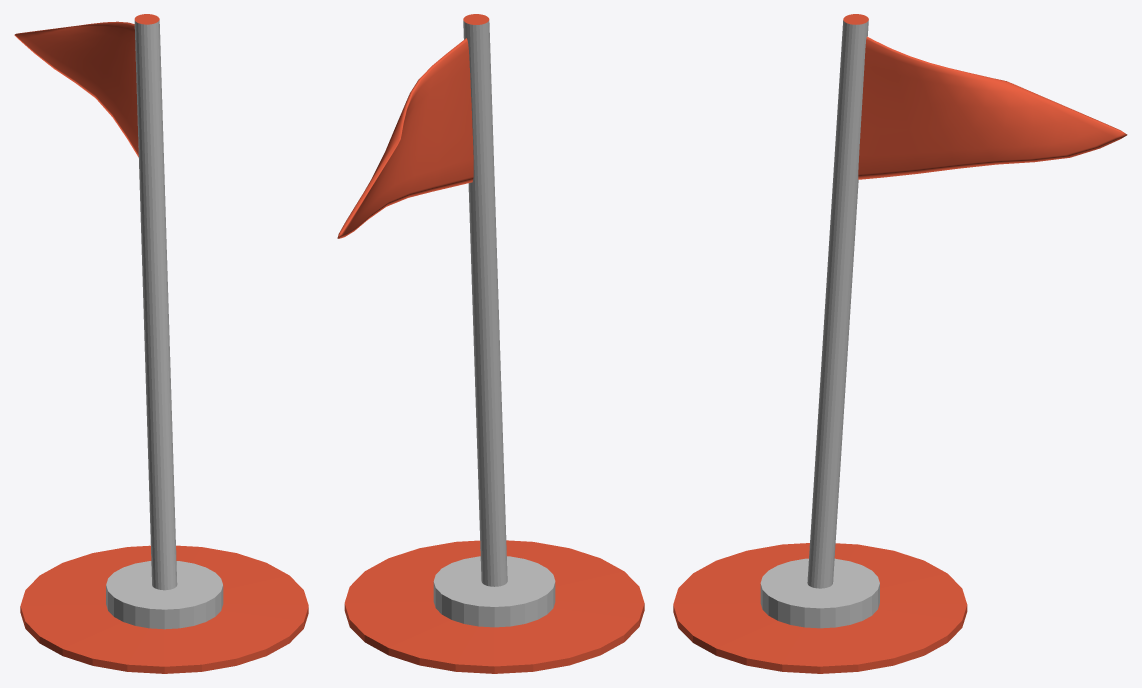
The model's file is Flag.fbx.
3 views of the same model, side by side, from view 1: azimuth 30°, elevation 25°; view 2: azimuth 150°, elevation 25°; view 3: azimuth 270°, elevation 25° (orthographic). The views are drawn at different scales.
Parts seen in each view (by area): view 1: tulguur, Flag; view 2: tulguur, Flag; view 3: tulguur, Flag.
Boxes of the visible parts, x1=… form: tulguur: x1=20, y1=14, x2=308, y2=673; Flag: x1=14, y1=21, x2=138, y2=156; tulguur: x1=344, y1=14, x2=644, y2=673; Flag: x1=337, y1=38, x2=473, y2=238; tulguur: x1=673, y1=14, x2=967, y2=673; Flag: x1=858, y1=36, x2=1127, y2=179.
Bounding box in the file's own units: 145 × 323 × 225.
